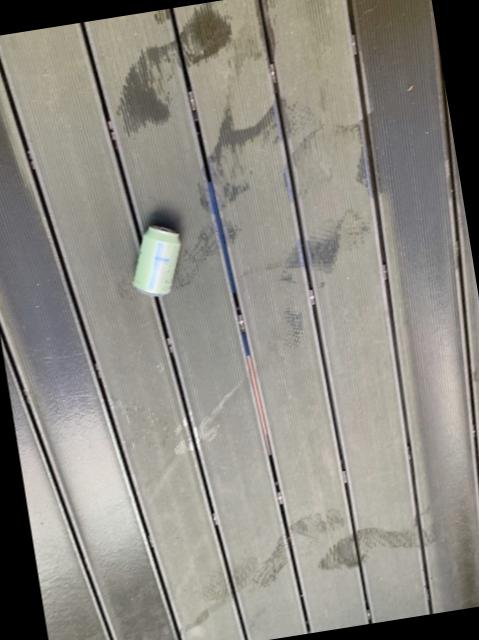metal: (134, 224, 180, 295)
